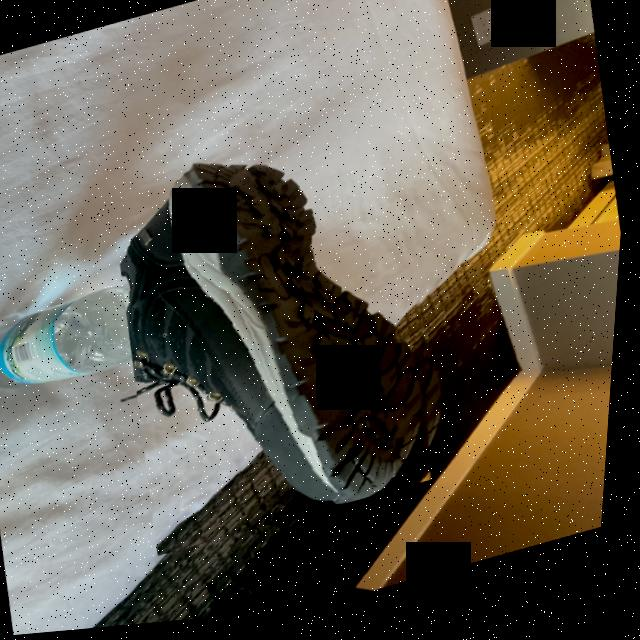shoe: (92, 103, 483, 565)
